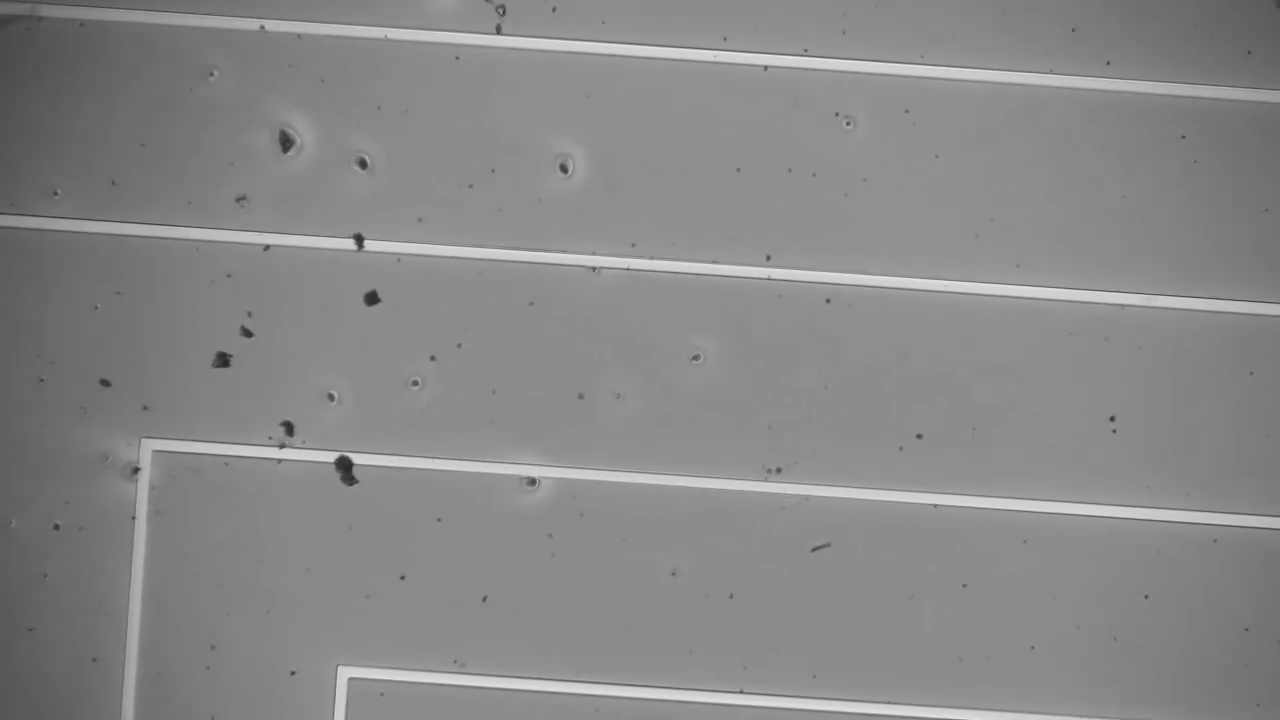stains_enbedded: (332, 443, 372, 492), (345, 225, 373, 258)
